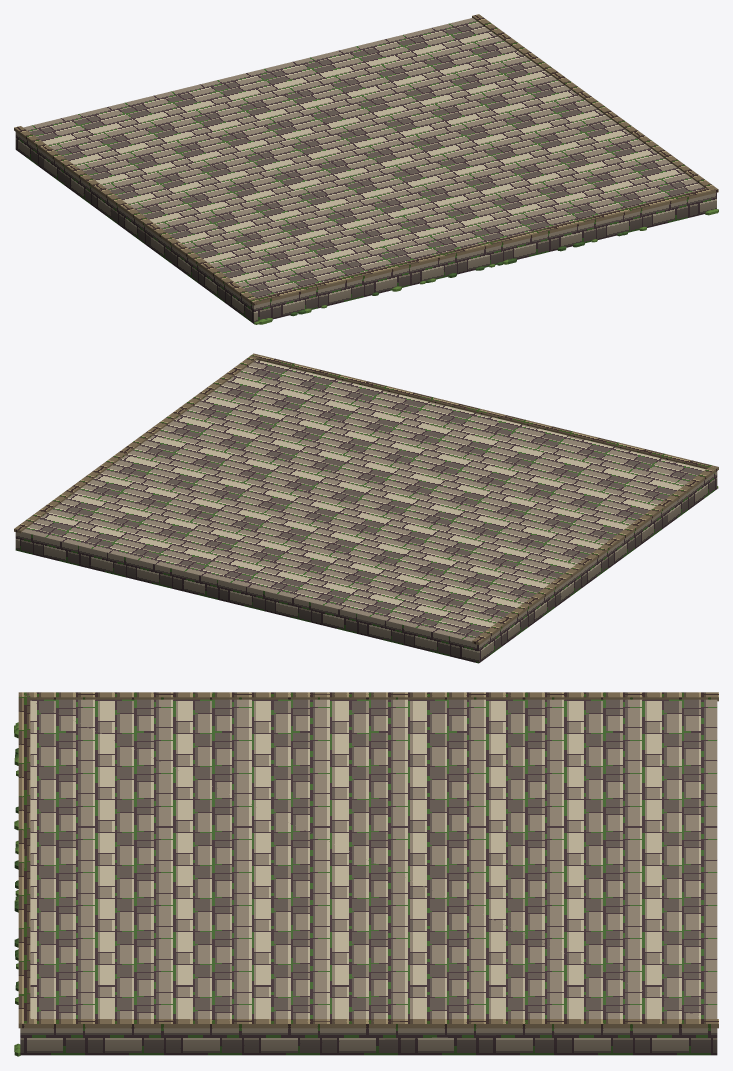
Rendered from scene_wall_s.glb.
The picture shows the model from 3 angles, top to bottom: view 1: azimuth 30°, elevation 25°; view 2: azimuth 150°, elevation 25°; view 3: azimuth 270°, elevation 25°; orthographic projection. The views are drawn at different scales.
Visible parts, largest first — view 1: scene_wall_s; view 2: scene_wall_s; view 3: scene_wall_s.
Boxes of the visible parts, bbox=[...] form: scene_wall_s: bbox=[14, 14, 718, 324]; scene_wall_s: bbox=[14, 353, 718, 663]; scene_wall_s: bbox=[14, 692, 718, 1056].
Size of the model in its own units: 24.11 by 1.17 by 21.64.
2 materials, 1 textured.
